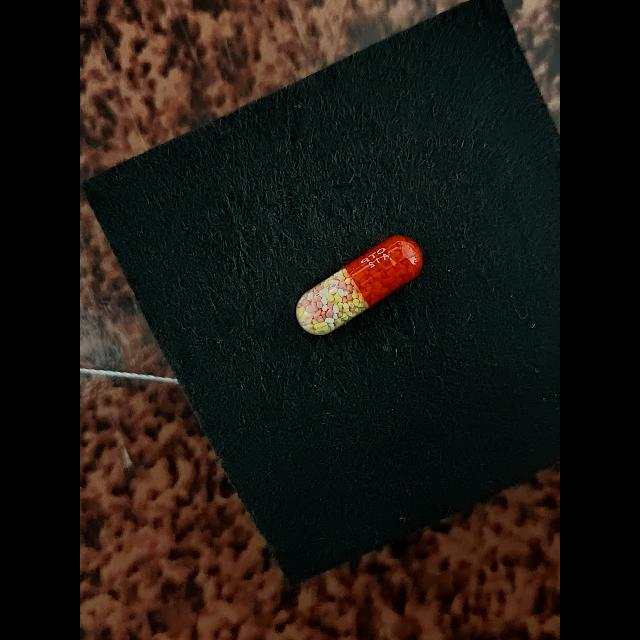Intact Capsule: (296, 235, 423, 335)
